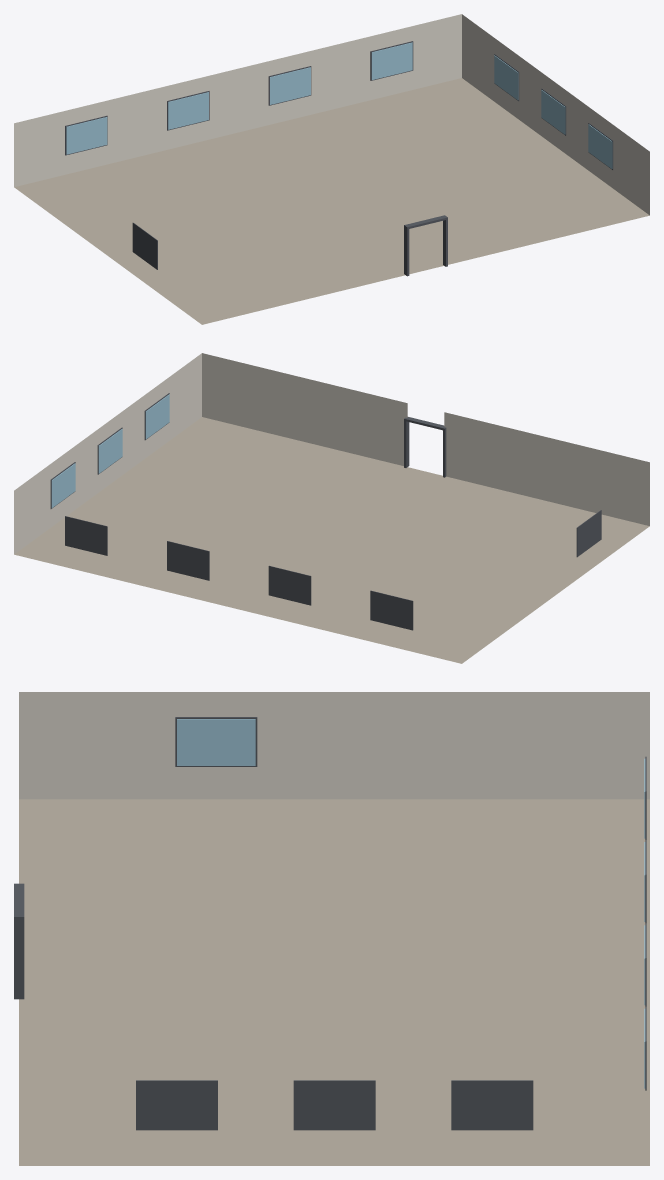
3 renders of one model, top to bottom at view 1: azimuth 30°, elevation 25°; view 2: azimuth 150°, elevation 25°; view 3: azimuth 270°, elevation 25°, orthographic. The views are drawn at different scales.
Parts seen in each view (by area): view 1: floor, wall, glass, frame; view 2: floor, wall, frame, glass; view 3: floor, wall, frame, glass.
Part boxes in pixels (x1=…): floor: x1=14, y1=78, x2=649, y2=324; wall: x1=14, y1=14, x2=649, y2=215; glass: x1=66, y1=42, x2=612, y2=168; frame: x1=65, y1=41, x2=613, y2=276; floor: x1=14, y1=417, x2=649, y2=663; wall: x1=14, y1=353, x2=649, y2=554; frame: x1=50, y1=393, x2=601, y2=630; glass: x1=51, y1=394, x2=169, y2=507; floor: x1=19, y1=799, x2=649, y2=1165; wall: x1=19, y1=692, x2=649, y2=799; frame: x1=14, y1=717, x2=646, y2=1130; glass: x1=177, y1=719, x2=645, y2=1088.
Bounding box in the file's own units: 22 × 3 × 16.13.
